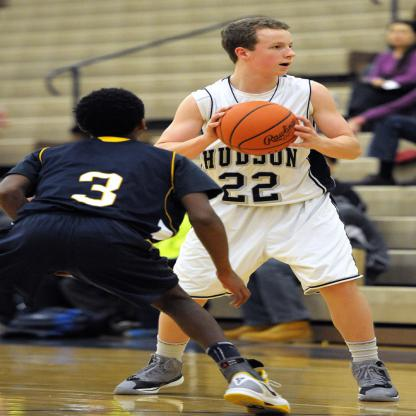Ball: (213, 99, 299, 157)
